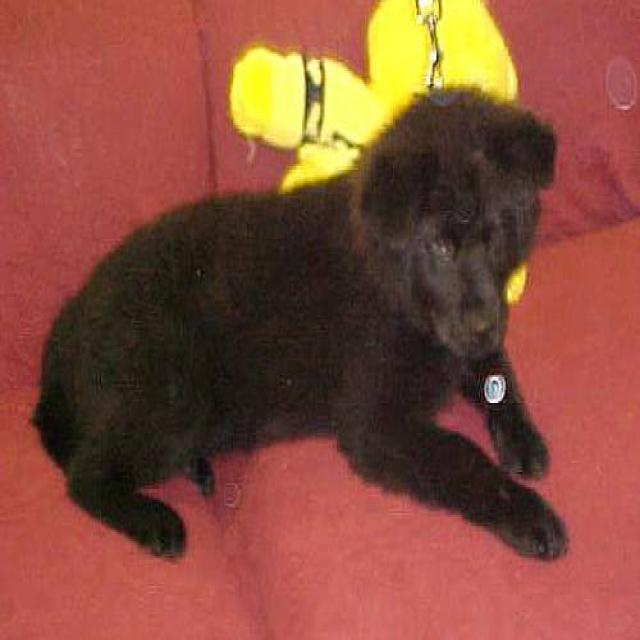dogs: (30, 36, 569, 600)
